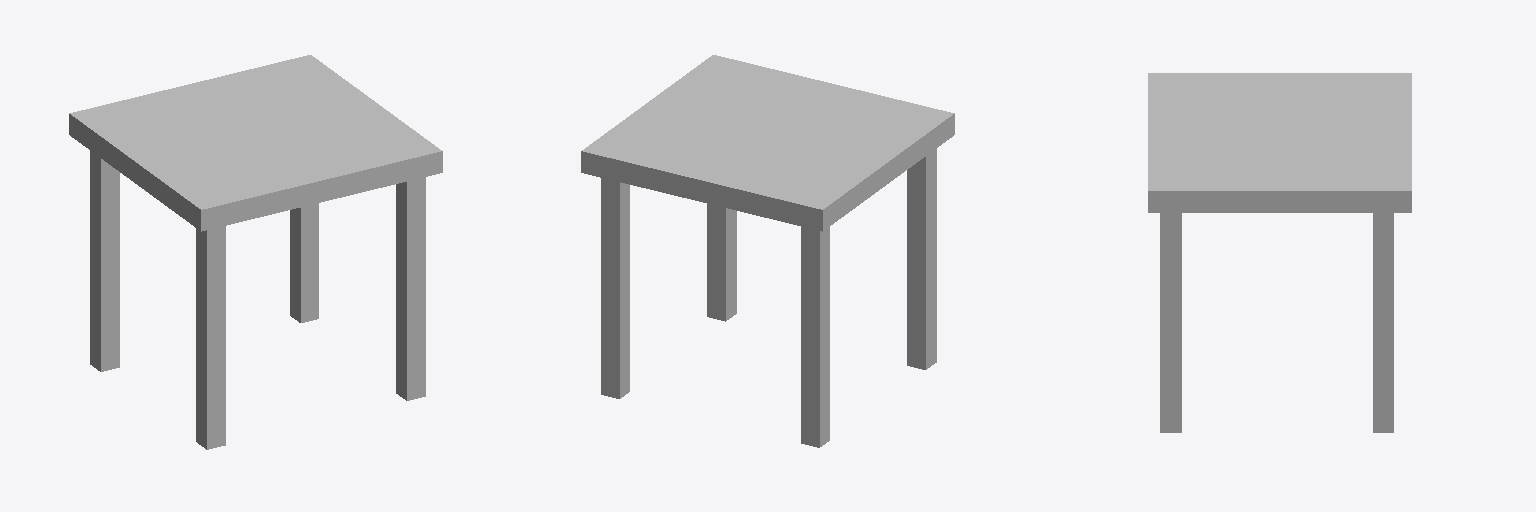
Rendered from Table.obj.
3 views of the same model, side by side, from view 1: azimuth 30°, elevation 25°; view 2: azimuth 150°, elevation 25°; view 3: azimuth 270°, elevation 25° (orthographic).
Parts seen in each view (by area): view 1: Cube; view 2: Cube; view 3: Cube.
Part boxes in pixels (x1,y1,x2,y2): Cube: (69, 55, 442, 449); Cube: (581, 55, 954, 447); Cube: (1148, 73, 1411, 432).
Size of the model in its own units: 4.63 by 4.54 by 4.38.